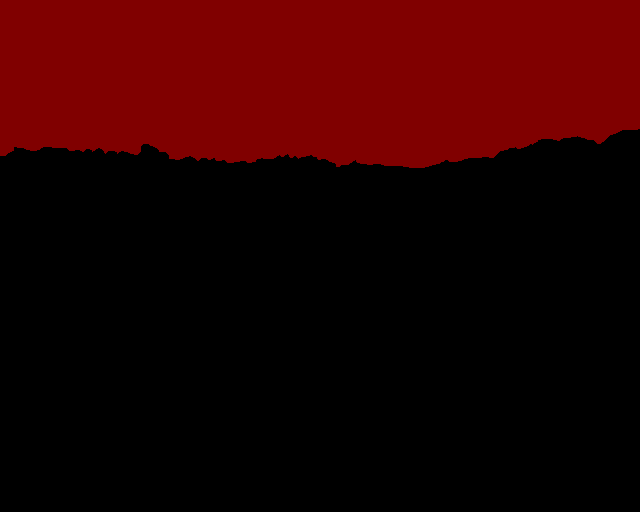Sky: (1, 1, 639, 168)
